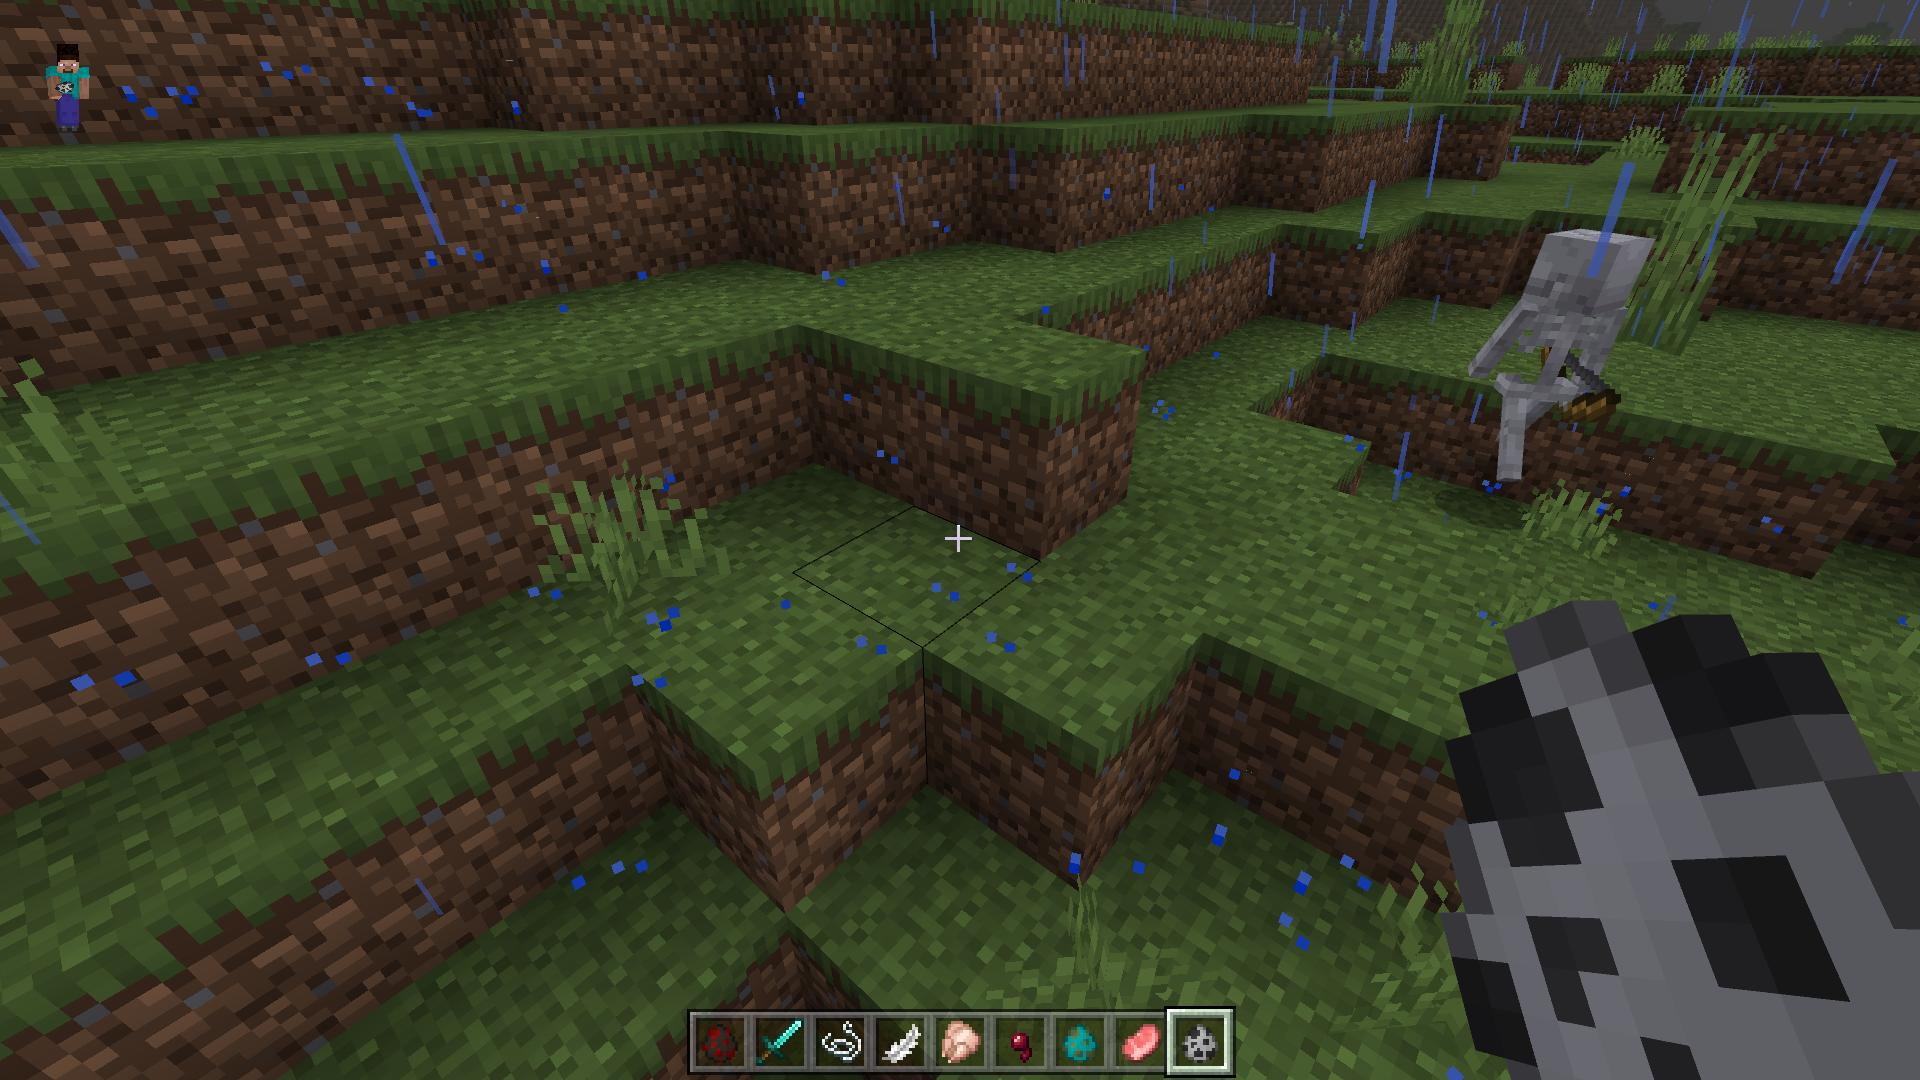skeleton: (1464, 229, 1655, 493)
